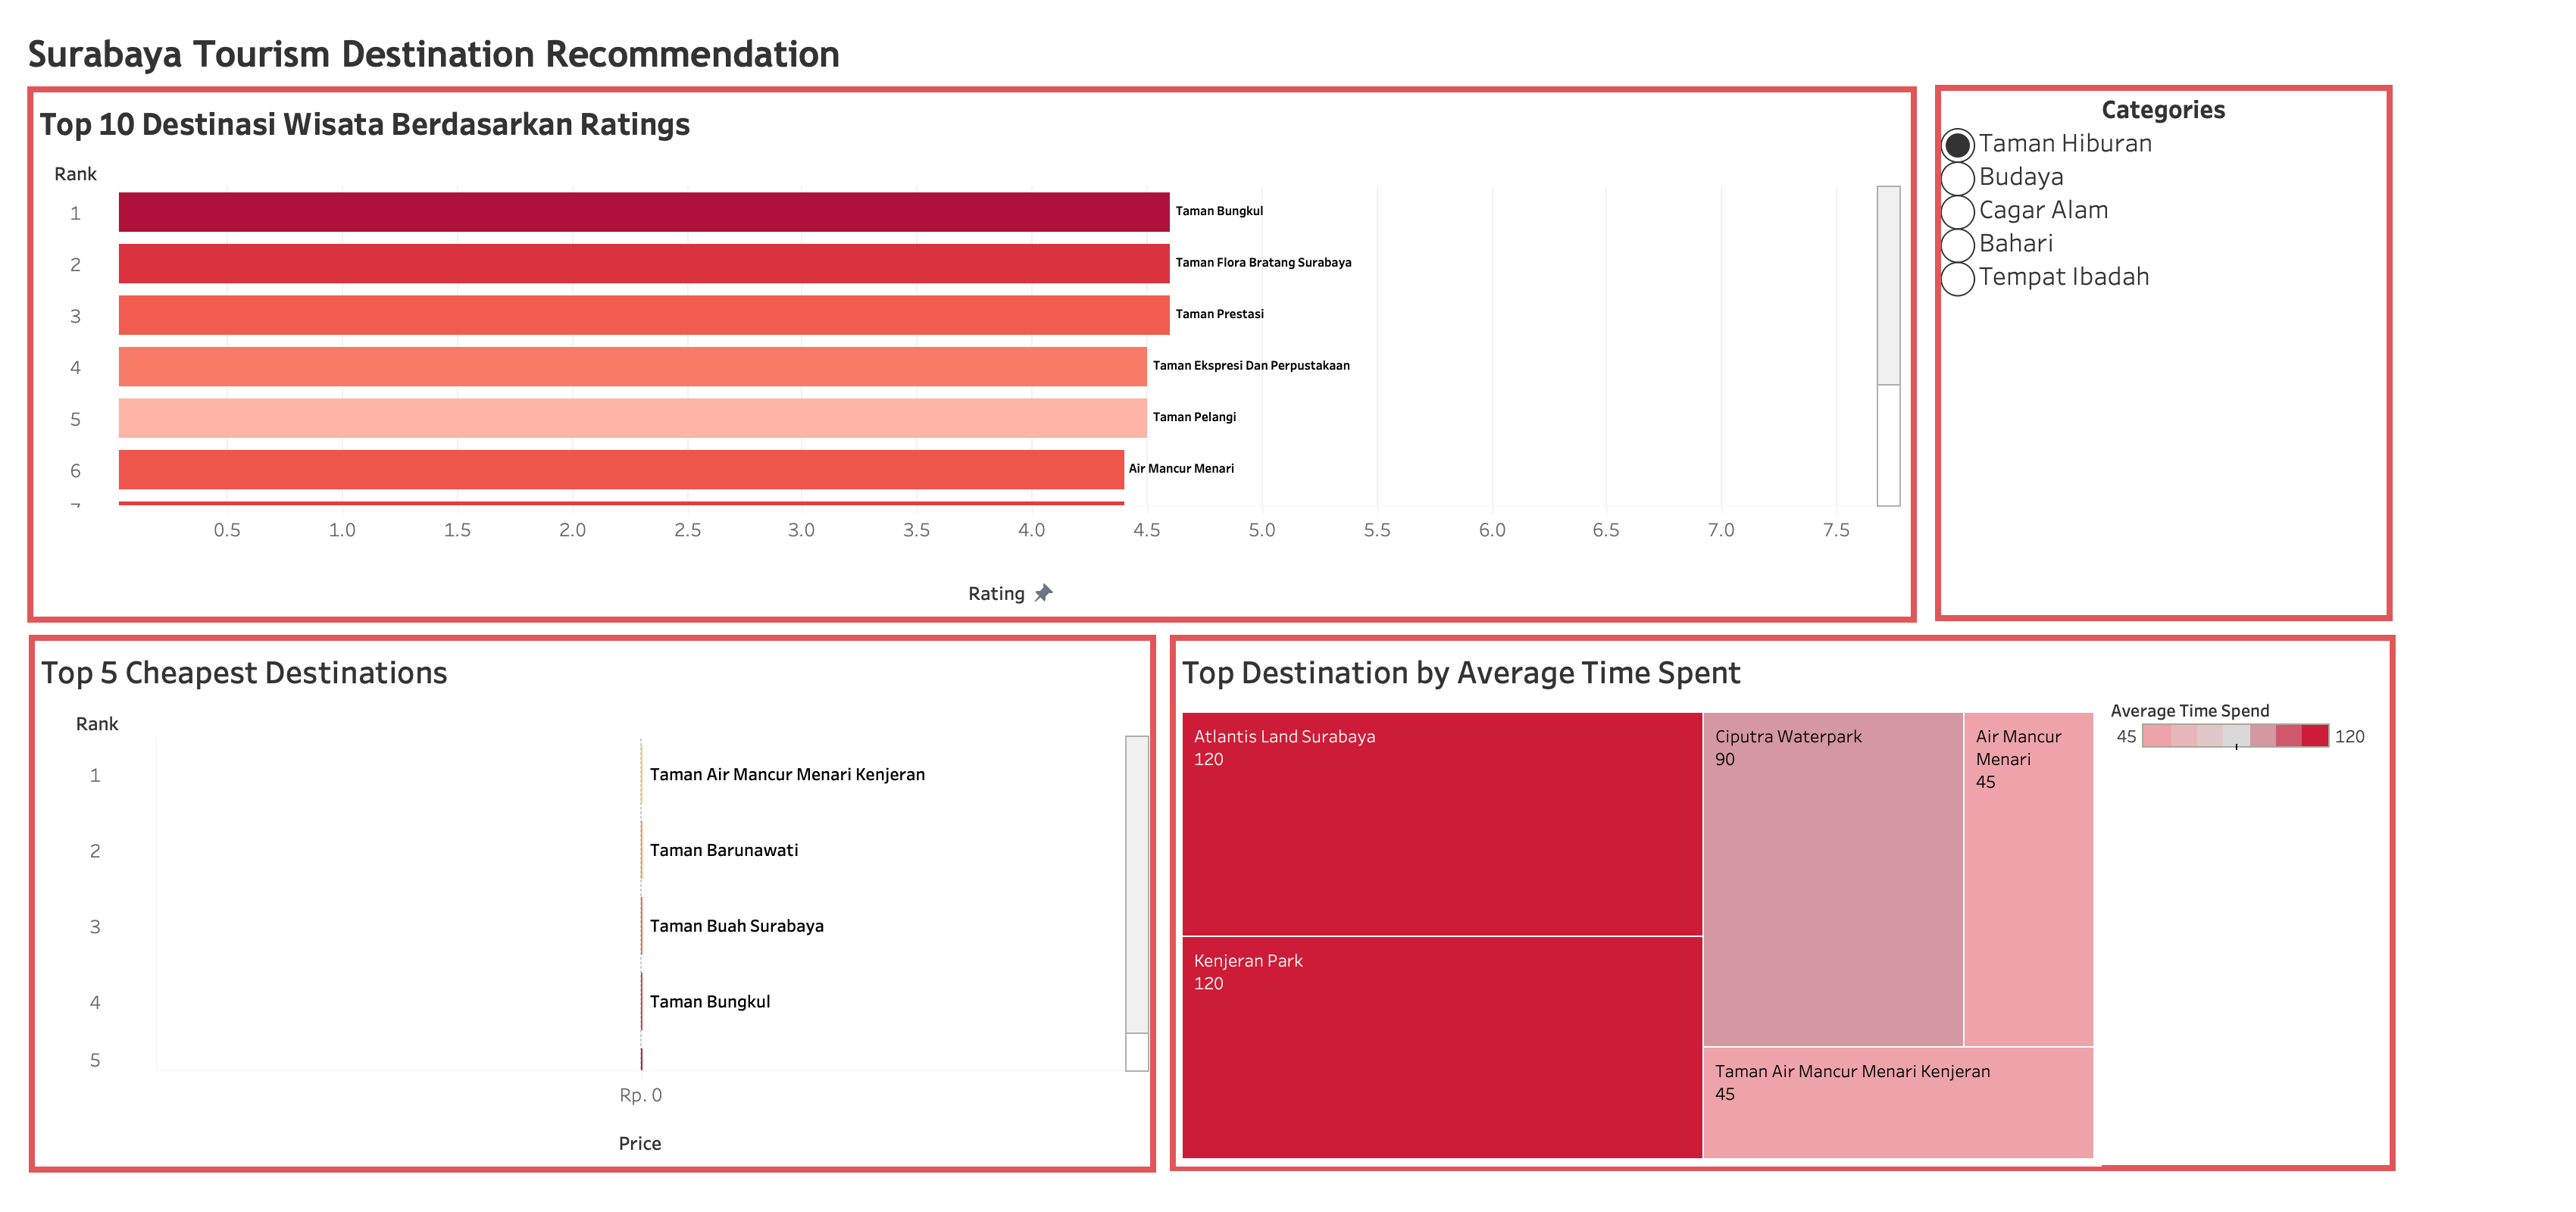

Layout of this report page (visuals, bound fields, positions):
{"tool":"tableau","page":{"name":"Dash Board Surabaya","canvas":[1700,800],"ordinal":4},"visuals":[{"type":"title","box":[16,6,1151,58]},{"type":"parameter","param":"[Parameters].[Parameter 1]","box":[1277,56,302,354]},{"type":"worksheet","title":"Top Rated Places (Surabaya)","mark":"Automatic","cols":["Rating"],"box":[18,57,1247,354]},{"type":"worksheet","title":"Cheapest Places (Surabaya)","mark":"Automatic","cols":["Price"],"box":[19,419,744,355]},{"type":"worksheet","title":"Average Time Spend (Surabaya)","mark":"Automatic","box":[772,419,809,354]},{"type":"legend","title":"Average Time Spend (Surabaya)","param":"[federated.07echau0cc9wpq1a99yee0hrih15].[usr:Calculation_1931199867067944968:qk","box":[1393,457,173,92]}]}

Visuals, with their boxes in screenshot pixels (x1, y1, x2, y2), scaled from the page's 1700x800 canvas onto the 2576x1212 screenshot:
title: 24 9 1768 97
parameter: 1935 85 2393 621
"Top Rated Places (Surabaya)" worksheet: 27 86 1917 623
"Cheapest Places (Surabaya)" worksheet: 29 635 1156 1173
"Average Time Spend (Surabaya)" worksheet: 1170 635 2396 1171
"Average Time Spend (Surabaya)" legend: 2111 692 2373 832
